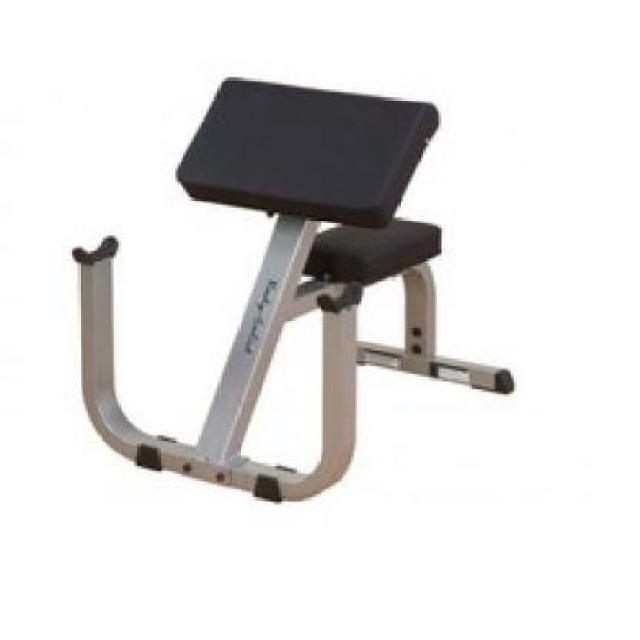arm curl machine: (74, 75, 517, 503)
